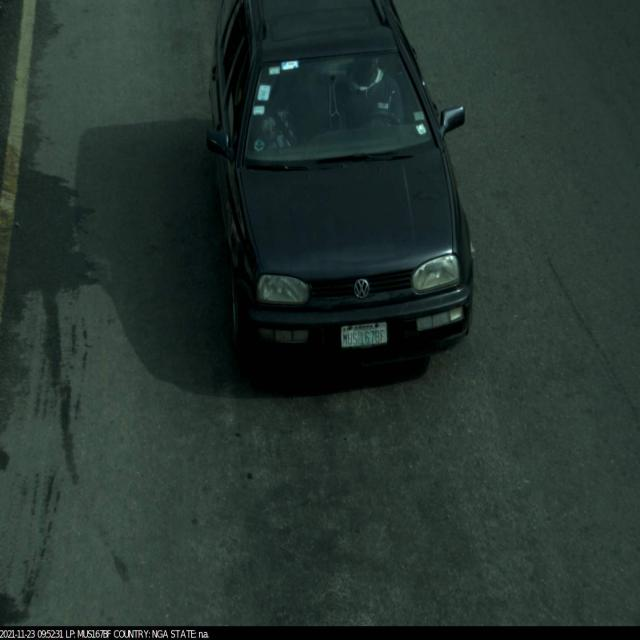windshield: (237, 42, 441, 174)
